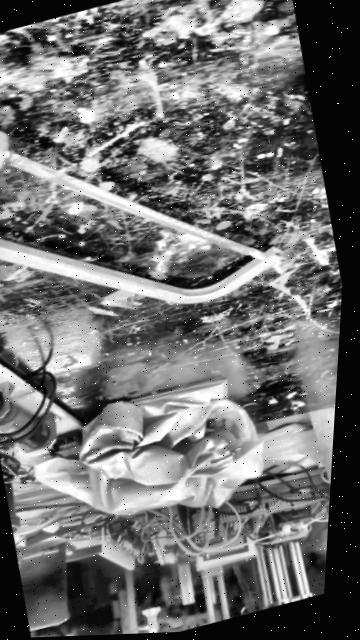pot: (0, 467, 27, 534)
